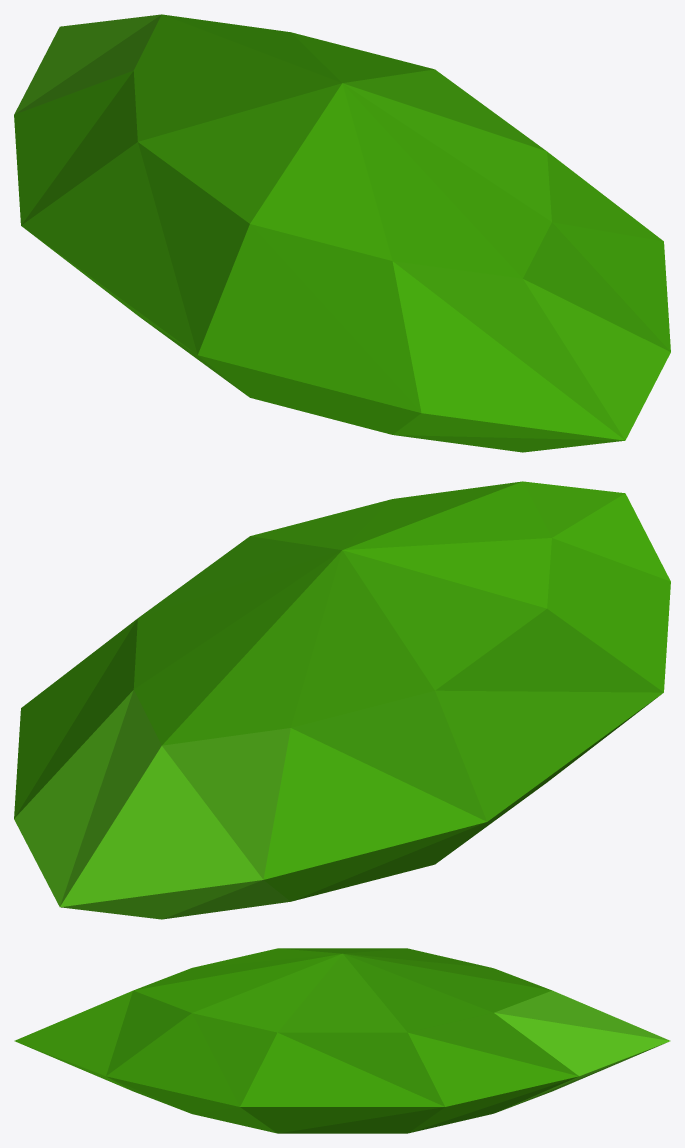
File: prop_treasure_gem_emerald_3.fbx
3 views of the same model, one above another, from view 1: azimuth 30°, elevation 25°; view 2: azimuth 150°, elevation 25°; view 3: azimuth 270°, elevation 25° (orthographic). The views are drawn at different scales.
Visible parts, largest first — view 1: prop_treasure_gem_emerald_3; view 2: prop_treasure_gem_emerald_3; view 3: prop_treasure_gem_emerald_3.
Part boxes in pixels (bbox=[...]): prop_treasure_gem_emerald_3: bbox=[14, 14, 670, 452]; prop_treasure_gem_emerald_3: bbox=[14, 481, 670, 919]; prop_treasure_gem_emerald_3: bbox=[14, 948, 670, 1133].
Size of the model in its own units: 0.2791 by 0.1719 by 0.5865.
